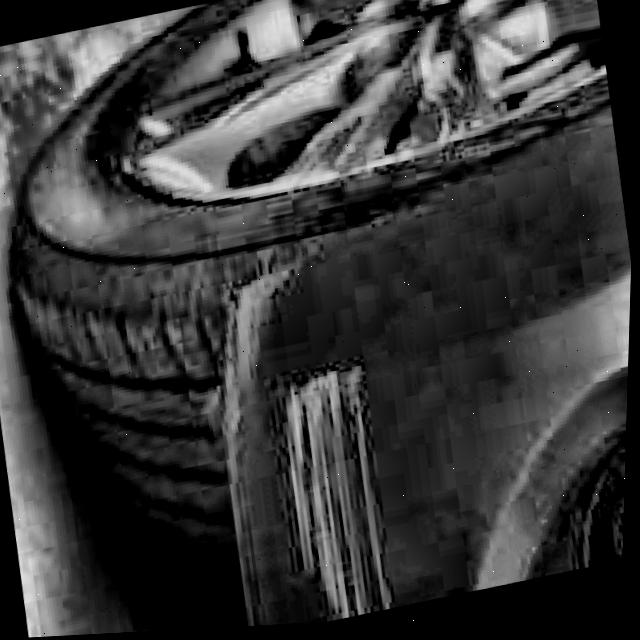bumper_scratch: (262, 361, 412, 625)
